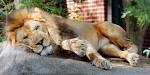lion: (7, 7, 139, 70)
